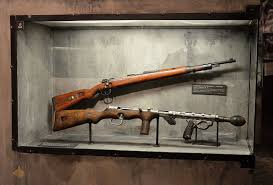gun: (48, 56, 236, 112), (51, 106, 245, 142)
